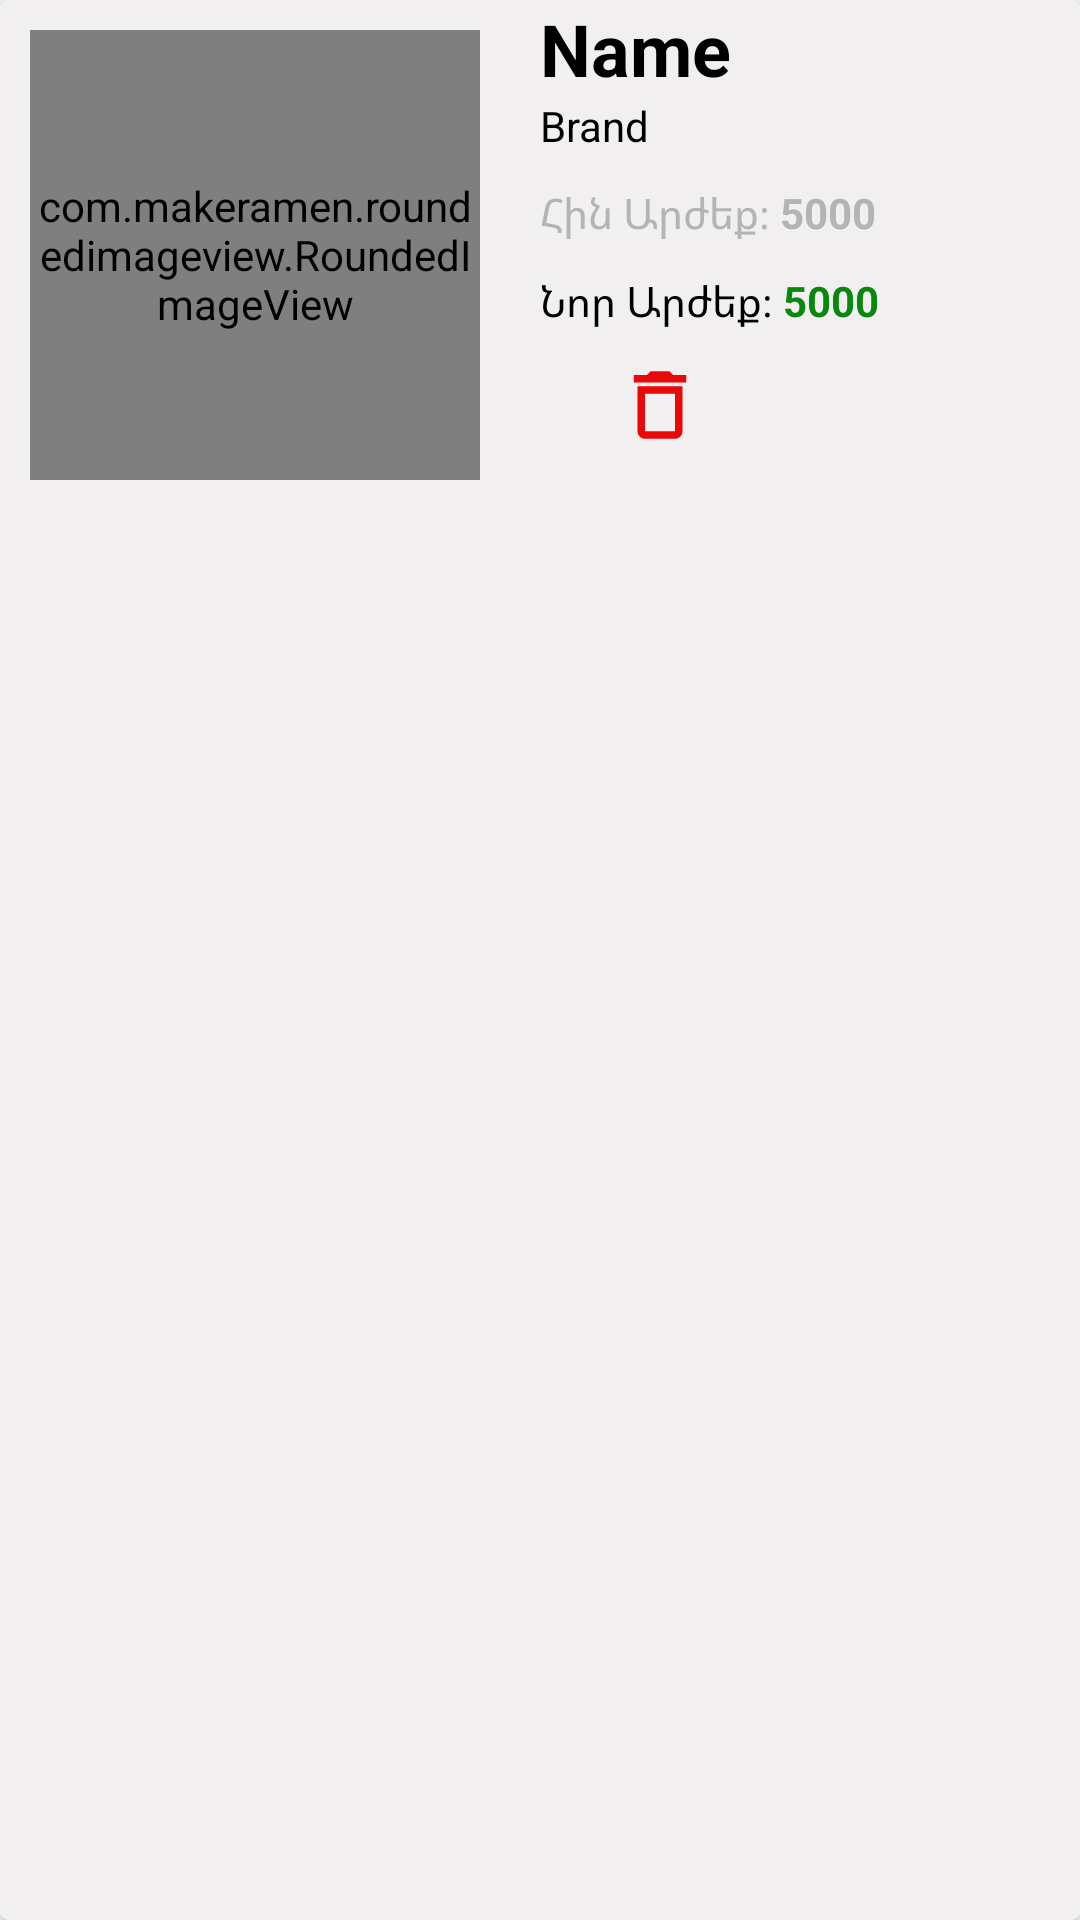

Screen size 1080 x 1920. Icon name, then its center in pixels as point (x, y):
delete: point (660, 405)
